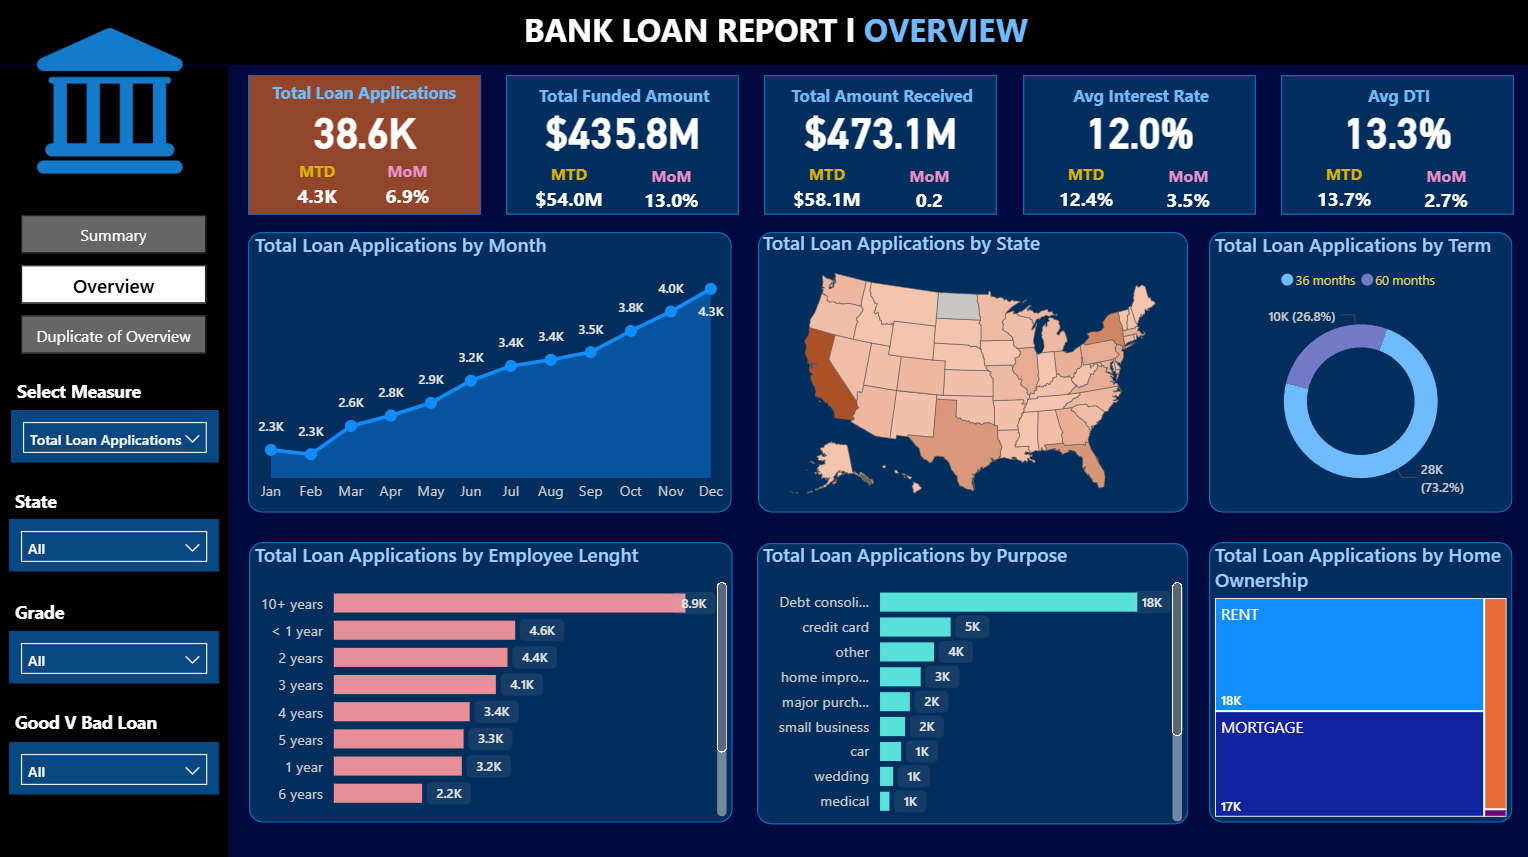

What the dashboard file says about the page in this screenshot:
{"tool":"powerbi","page":{"name":"Overview","canvas":[1280,720],"ordinal":1},"visuals":[{"type":"shape","box":[0,55.7,191.4,664.3],"z":0},{"type":"shape","box":[207.5,63.8,195,117],"z":0,"group":"g1"},{"type":"shape","box":[423.8,63.8,195,117],"z":0,"group":"g2"},{"type":"shape","box":[640,63.8,195,117],"z":0,"group":"g3"},{"type":"shape","box":[856.2,63.8,195,117],"z":0,"group":"g4"},{"type":"shape","box":[1072.5,63.8,195,117],"z":0,"group":"g5"},{"type":"shape","box":[0,0,1280,55],"z":1000},{"type":"card","fields":{"Values":["Measure.Total Loan Applications"]},"box":[232.5,82.6,145,55],"z":1000,"group":"g1"},{"type":"card","fields":{"Values":["Measure.Total Funded Amount"]},"box":[448.8,82.6,145,55],"z":1000,"group":"g2"},{"type":"card","fields":{"Values":["Measure.Total Amount Received"]},"box":[665,82.6,145,55],"z":1000,"group":"g3"},{"type":"card","fields":{"Values":["Measure.Avg Interest Rate"]},"box":[881.2,82.6,145,55],"z":1000,"group":"g4"},{"type":"card","fields":{"Values":["Measure.Avg DTI"]},"box":[1097.5,82.6,145,55],"z":1000,"group":"g5"},{"type":"textbox","box":[221.3,63.8,167.5,37.5],"z":2000,"group":"g1"},{"type":"textbox","box":[438.8,66.3,167.5,37.5],"z":2000,"group":"g2"},{"type":"textbox","box":[655,66.3,167.5,37.5],"z":2000,"group":"g3"},{"type":"textbox","box":[871.2,66.3,167.5,37.5],"z":2000,"group":"g4"},{"type":"textbox","box":[1087.5,66.3,167.5,37.5],"z":2000,"group":"g5"},{"type":"shape","box":[207.5,195,405,235],"z":2000},{"type":"textbox","box":[434,1.8,442,50.3],"z":3000},{"type":"card","title":"MTD","fields":{"Values":["Measure.MTD Loan Applications"]},"box":[243.7,135,43.8,46.2],"z":3000,"group":"g1"},{"type":"card","title":"MTD","fields":{"Values":["Measure.MTD Funded Amount"]},"box":[435,137.6,83.8,47.5],"z":3000,"group":"g2"},{"type":"card","title":"MTD","fields":{"Values":["Measure.MTD Total Amount"]},"box":[651.2,137.6,83.8,47.5],"z":3000,"group":"g3"},{"type":"card","title":"MTD","fields":{"Values":["Measure.MTD Avg Int Rate"]},"box":[867.4,137.6,83.8,47.5],"z":3000,"group":"g4"},{"type":"card","title":"MTD","fields":{"Values":["Measure.MTD Avg DTI"]},"box":[1083.7,137.6,83.8,47.5],"z":3000,"group":"g5"},{"type":"group","id":"g1","title":"Group 1","box":[207.5,63.8,195,117.5],"z":4000},{"type":"card","title":"MoM","fields":{"Values":["Measure.MoM Loan Applications"]},"box":[315,135,52.5,46.2],"z":4000,"group":"g1"},{"type":"card","title":"MoM","fields":{"Values":["Measure.MoM Total Funded Amount"]},"box":[531.3,138.8,62.5,45],"z":4000,"group":"g2"},{"type":"card","title":"MoM","fields":{"Values":["Measure.MoM Total Amount Recieved"]},"box":[747.5,138.8,62.5,45],"z":4000,"group":"g3"},{"type":"card","title":"MoM","fields":{"Values":["Measure.MoM Avg Int Rate"]},"box":[963.7,138.8,62.5,45],"z":4000,"group":"g4"},{"type":"card","title":"MoM","fields":{"Values":["Measure.MoM Avg DTI"]},"box":[1180,138.8,62.5,45],"z":4000,"group":"g5"},{"type":"group","id":"g2","title":"Group 1","box":[423.8,63.8,195,121.2],"z":5000},{"type":"group","id":"g3","title":"Group 1","box":[640,63.8,195,121.2],"z":6000},{"type":"group","id":"g4","title":"Group 1","box":[856.2,63.8,195,121.2],"z":7000},{"type":"group","id":"g5","title":"Group 1","box":[1072.5,63.8,195,121.2],"z":8000},{"type":"slicer","fields":{"Values":["bank_loan_data.address_state"]},"box":[7.5,435.2,175.8,43.5],"z":9000},{"type":"textbox","box":[7.5,405,46,30.1],"z":10000},{"type":"slicer","fields":{"Values":["bank_loan_data.grade"]},"box":[7.5,529,175.8,43.5],"z":11000},{"type":"textbox","box":[7.5,498,60.3,31],"z":12000},{"type":"slicer","fields":{"Values":["bank_loan_data.Good V Bad Loan"]},"box":[7.5,621.9,175.8,43.5],"z":13000},{"type":"textbox","box":[7.6,590.3,145.2,32.5],"z":14000},{"type":"areaChart","fields":{"Y":["Measure.Total Loan Applications"],"Category":["Date Table.Month"]},"box":[208.2,194.9,405,235],"z":15000},{"type":"slicer","fields":{"Values":["Select Measure.Select Measure"]},"box":[9.2,344.1,174.1,43.5],"z":16000},{"type":"textbox","box":[9.6,313.3,118.4,30.6],"z":17000},{"type":"shape","box":[634.3,194.9,360,235],"z":18000},{"type":"shapeMap","fields":{"Value":["Measure.Total Loan Applications"],"Category":["bank_loan_data.address_state"]},"box":[633.5,193.7,361.2,235.6],"z":19000},{"type":"shape","box":[1012.5,194.9,254.1,235],"z":20000},{"type":"donutChart","fields":{"Y":["Measure.Total Loan Applications"],"Category":["bank_loan_data.term"]},"box":[1012.5,194.9,254.1,235],"z":21000},{"type":"shape","box":[208.2,454.7,405,235],"z":22000},{"type":"barChart","fields":{"Y":["Measure.Total Loan Applications"],"Category":["bank_loan_data.emp_length"]},"box":[208.2,454.3,404.9,234.7],"z":23000},{"type":"shape","box":[633.5,455.5,361.2,235.6],"z":24000},{"type":"barChart","fields":{"Y":["Measure.Total Loan Applications"],"Category":["bank_loan_data.purpose"]},"box":[633.4,454.3,360.8,239.1],"z":25000},{"type":"shape","box":[1012.5,454.7,254.1,235],"z":26000},{"type":"treemap","fields":{"Values":["Measure.Total Loan Applications"],"Group":["bank_loan_data.home_ownership"]},"box":[1012.5,454.7,254.1,235],"z":27000},{"type":"image","box":[30.6,14,122.4,141.6],"z":28000},{"type":"pageNavigator","box":[17.6,180.8,155.7,118],"z":28001}]}

Visuals, with their boxes on the page's 1280x720 design canvas (x1, y1, x2, y2). These are canvas units, not pixel positions in the 1528x857 screenshot, which may show the page scaled, cropped or inside an application window:
shape: 0:56:191:720
shape: 208:64:402:181
shape: 424:64:619:181
shape: 640:64:835:181
shape: 856:64:1051:181
shape: 1072:64:1268:181
shape: 0:0:1280:55
card - Measure.Total Loan Applications: 232:83:378:138
card - Measure.Total Funded Amount: 449:83:594:138
card - Measure.Total Amount Received: 665:83:810:138
card - Measure.Avg Interest Rate: 881:83:1026:138
card - Measure.Avg DTI: 1098:83:1242:138
textbox: 221:64:389:101
textbox: 439:66:606:104
textbox: 655:66:822:104
textbox: 871:66:1039:104
textbox: 1088:66:1255:104
shape: 208:195:612:430
textbox: 434:2:876:52
"MTD" card: 244:135:288:181
"MTD" card: 435:138:519:185
"MTD" card: 651:138:735:185
"MTD" card: 867:138:951:185
"MTD" card: 1084:138:1168:185
"Group 1" group: 208:64:402:181
"MoM" card: 315:135:368:181
"MoM" card: 531:139:594:184
"MoM" card: 748:139:810:184
"MoM" card: 964:139:1026:184
"MoM" card: 1180:139:1242:184
"Group 1" group: 424:64:619:185
"Group 1" group: 640:64:835:185
"Group 1" group: 856:64:1051:185
"Group 1" group: 1072:64:1268:185
slicer - bank_loan_data.address_state: 8:435:183:479
textbox: 8:405:54:435
slicer - bank_loan_data.grade: 8:529:183:572
textbox: 8:498:68:529
slicer - bank_loan_data.Good V Bad Loan: 8:622:183:665
textbox: 8:590:153:623
areaChart - Measure.Total Loan Applications x Date Table.Month: 208:195:613:430
slicer - Select Measure.Select Measure: 9:344:183:388
textbox: 10:313:128:344
shape: 634:195:994:430
shapeMap - Measure.Total Loan Applications x bank_loan_data.address_state: 634:194:995:429
shape: 1012:195:1267:430
donutChart - Measure.Total Loan Applications x bank_loan_data.term: 1012:195:1267:430
shape: 208:455:613:690
barChart - Measure.Total Loan Applications x bank_loan_data.emp_length: 208:454:613:689
shape: 634:456:995:691
barChart - Measure.Total Loan Applications x bank_loan_data.purpose: 633:454:994:693
shape: 1012:455:1267:690
treemap - Measure.Total Loan Applications x bank_loan_data.home_ownership: 1012:455:1267:690
image: 31:14:153:156
pageNavigator: 18:181:173:299
